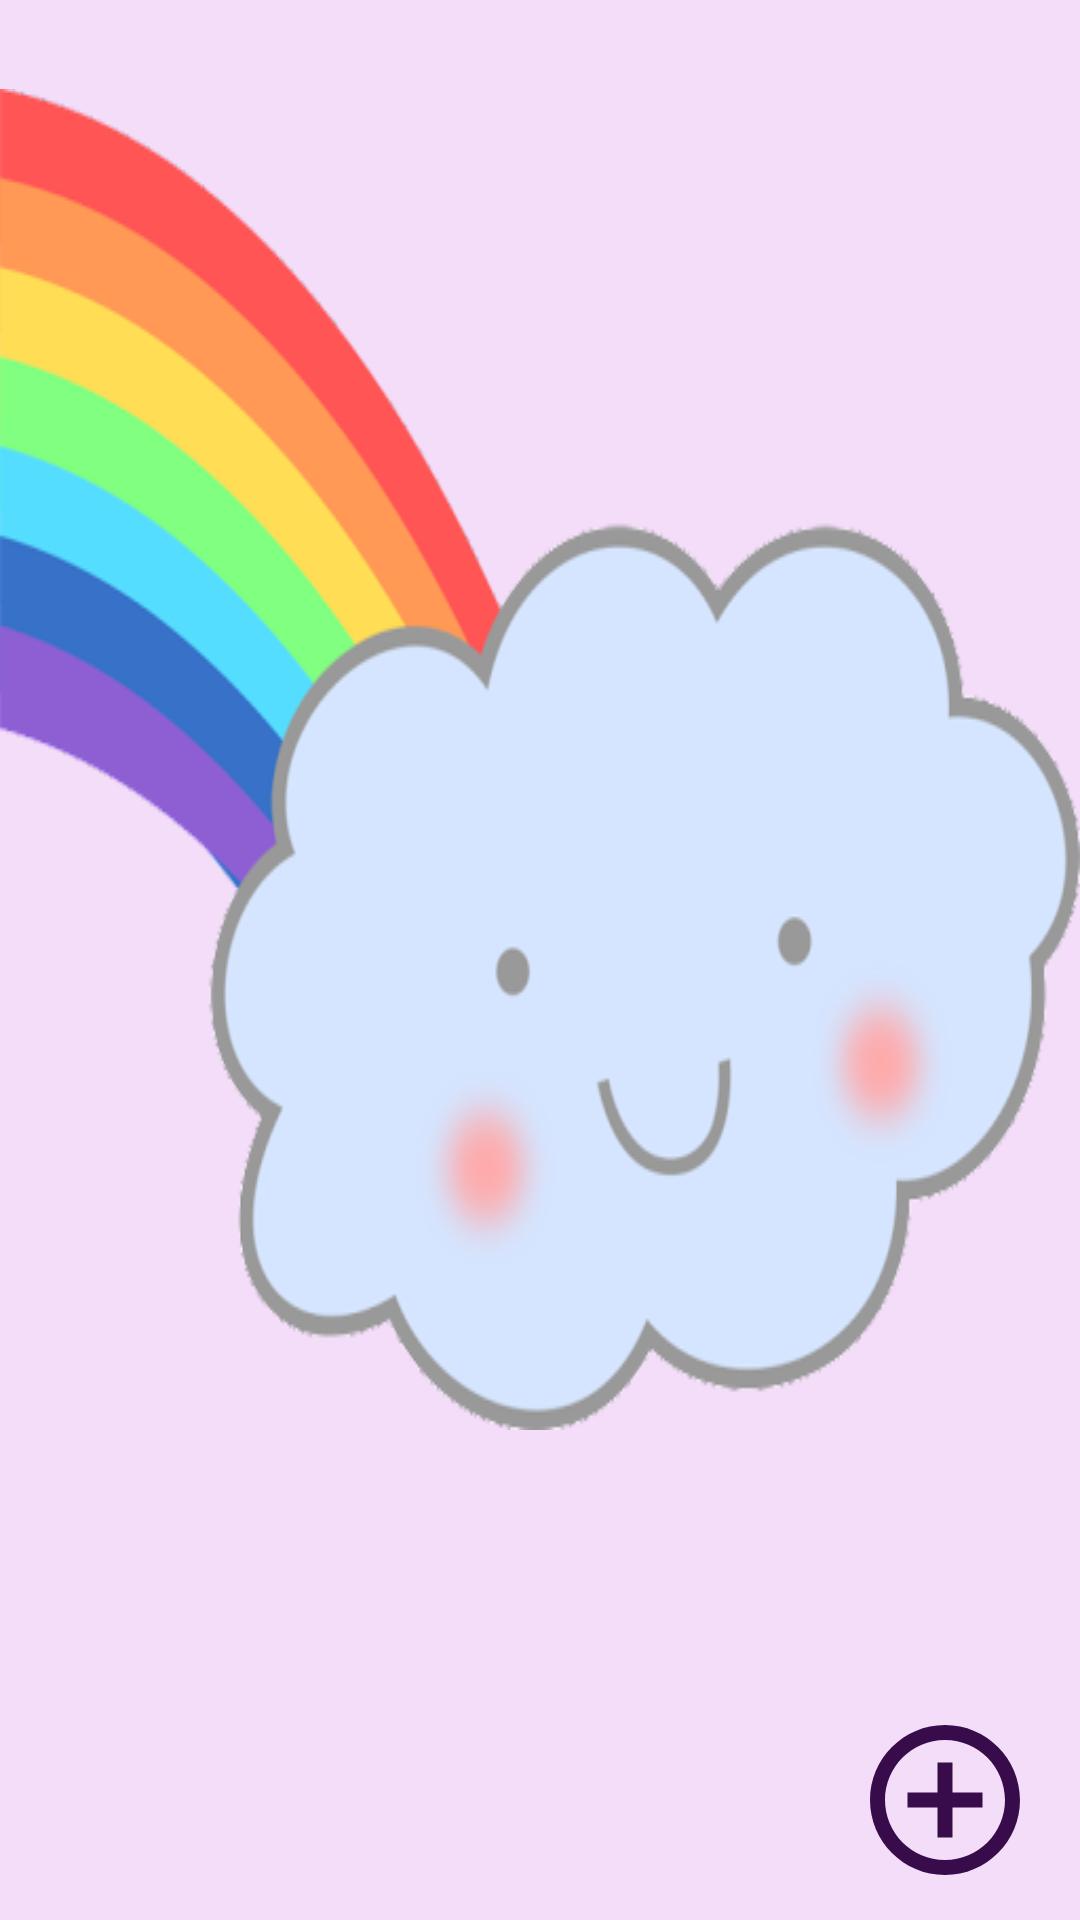

Named icons in this screenshot (1080px×1920px) and their bounding boxes, BBox(x1, y1, x2, y2):
add circle: BBox(870, 1725, 1020, 1875)
